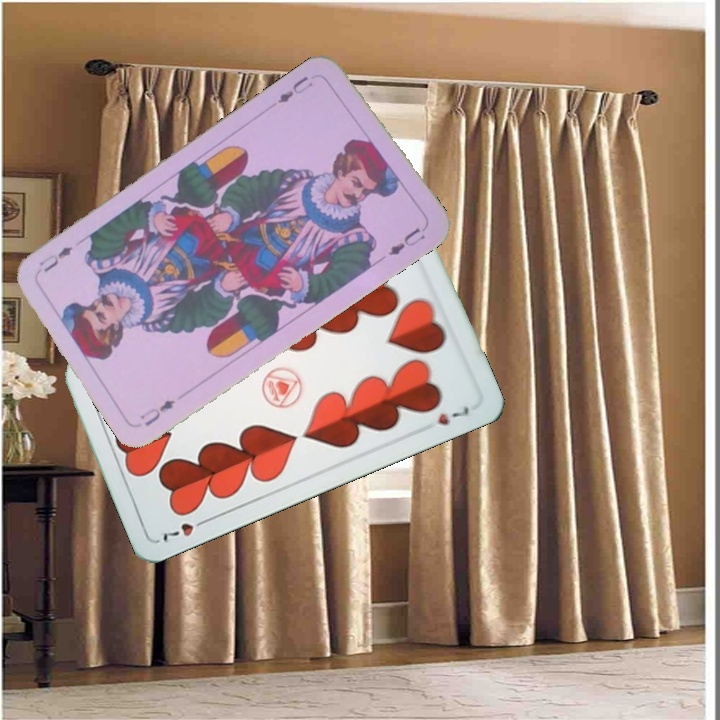EU: (272, 72, 316, 106), (136, 395, 178, 429)
H7: (156, 514, 212, 547)
